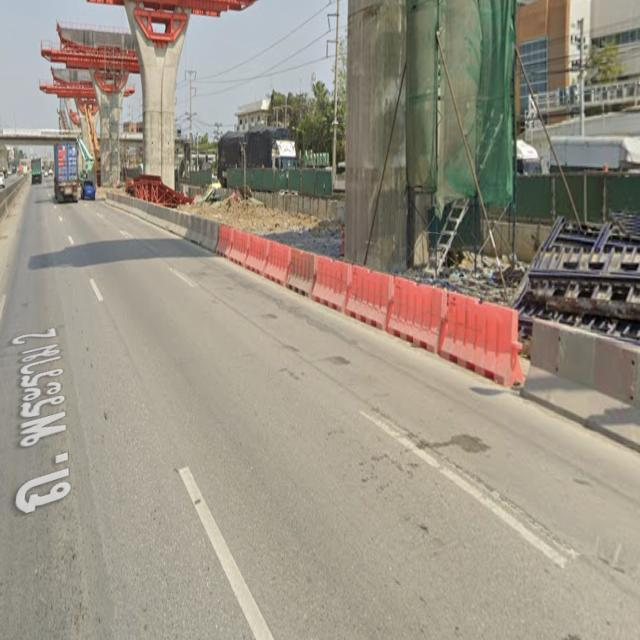fallen_object: (490, 299, 640, 456), (383, 272, 530, 393), (187, 202, 317, 319), (297, 237, 402, 361), (92, 176, 204, 255)
